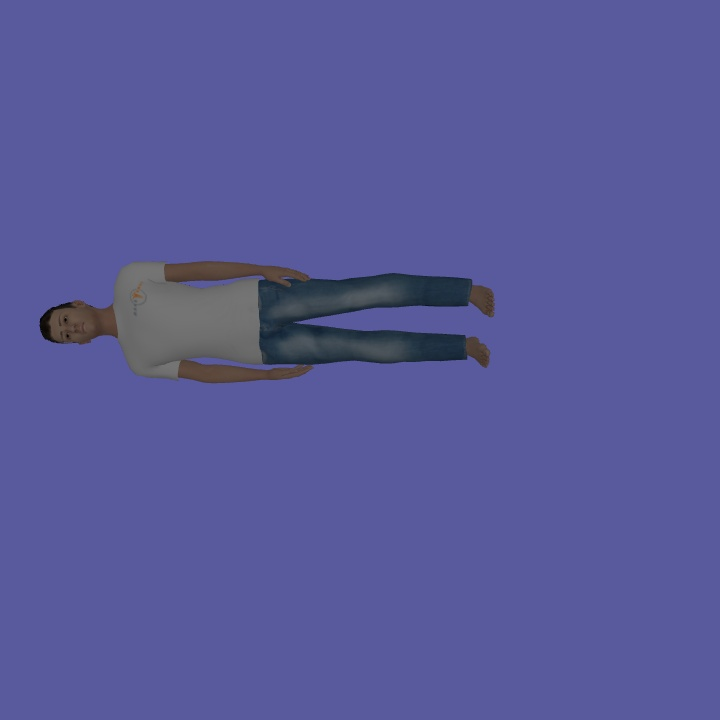victim: (37, 257, 500, 385)
